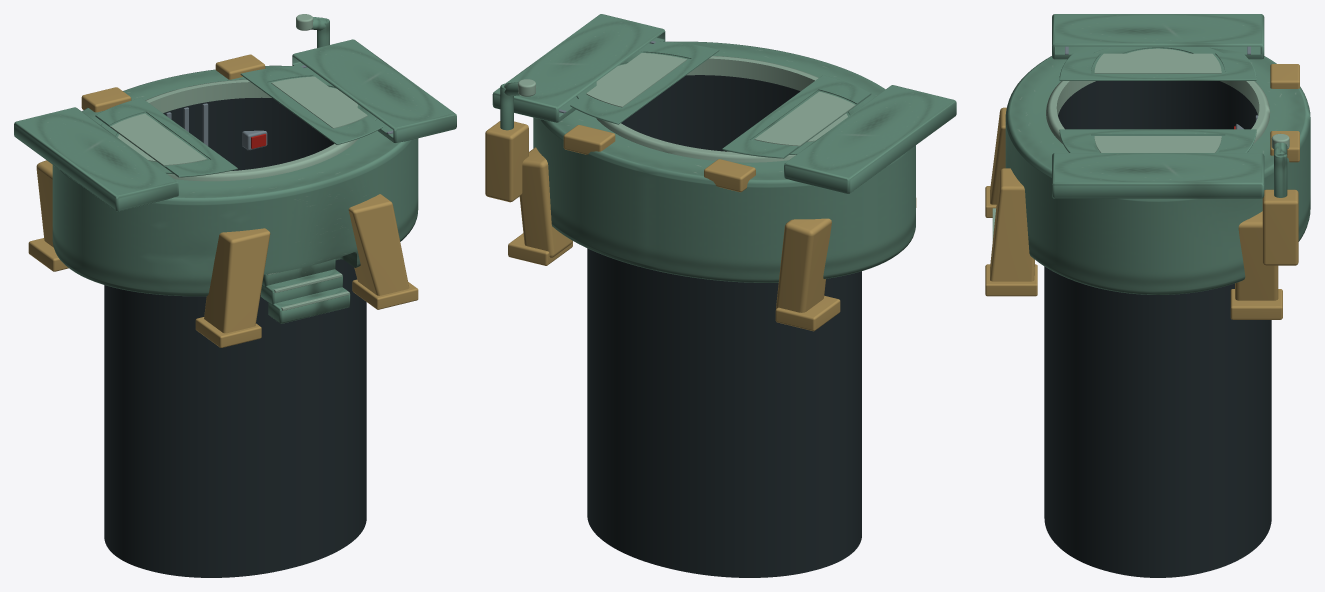
Rendered from descriptor-08.glb.
3 views of the same model, side by side, from view 1: azimuth 30°, elevation 25°; view 2: azimuth 150°, elevation 25°; view 3: azimuth 270°, elevation 25° (orthographic). The views are drawn at different scales.
Visible parts, largest first — view 1: RI10 shaft wall below ground, RI10 fixed oval body, RI10 enclosed side cover cassette, RI10 enclosed side cover cassette.001, RI10 front splayed brass buttress, RI10 front splayed brass buttress.001, RI10 green aperture coaming, RI10 left cover shell inner segment, RI10 right cover shell inner segment, RI10 recessed green cover field inner segment.001, RI10 recessed green cover field inner segment, RI10 front access step 0 (+8 smaller); view 2: RI10 shaft wall below ground, RI10 fixed oval body, RI10 enclosed side cover cassette, RI10 enclosed side cover cassette.001, RI10 rear brass load-bearing buttress, RI10 green aperture coaming, RI10 rear brass load-bearing buttress.001, RI10 left cover shell inner segment, RI10 right equipment mast foundation, RI10 right cover shell inner segment, RI10 recessed green cover field inner segment.001, RI10 recessed green cover field inner segment (+4 smaller); view 3: RI10 shaft wall below ground, RI10 fixed oval body, RI10 enclosed side cover cassette.001, RI10 enclosed side cover cassette, RI10 front splayed brass buttress.001, RI10 left cover shell inner segment, RI10 right equipment mast foundation, RI10 recessed green cover field inner segment, RI10 right cover shell inner segment, RI10 rear brass load-bearing buttress.001, RI10 recessed green cover field inner segment.001, RI10 green aperture coaming (+7 smaller).
Boxes of the visible parts, <box> form: RI10 shaft wall below ground: <box>104,97,366,577</box>; RI10 fixed oval body: <box>52,65,418,296</box>; RI10 enclosed side cover cassette: <box>14,107,178,211</box>; RI10 enclosed side cover cassette.001: <box>292,39,456,142</box>; RI10 front splayed brass buttress: <box>204,228,270,333</box>; RI10 front splayed brass buttress.001: <box>348,194,409,295</box>; RI10 green aperture coaming: <box>145,79,357,181</box>; RI10 left cover shell inner segment: <box>95,98,237,177</box>; RI10 right cover shell inner segment: <box>240,65,382,144</box>; RI10 recessed green cover field inner segment.001: <box>271,76,367,128</box>; RI10 recessed green cover field inner segment: <box>110,113,207,165</box>; RI10 front access step 0: <box>268,287,350,323</box>; RI10 shaft wall below ground: <box>587,75,861,577</box>; RI10 fixed oval body: <box>533,41,915,282</box>; RI10 enclosed side cover cassette: <box>784,85,956,193</box>; RI10 enclosed side cover cassette.001: <box>492,14,665,122</box>; RI10 rear brass load-bearing buttress: <box>776,218,831,312</box>; RI10 green aperture coaming: <box>596,56,818,162</box>; RI10 rear brass load-bearing buttress.001: <box>519,147,572,257</box>; RI10 left cover shell inner segment: <box>722,75,871,158</box>; RI10 right equipment mast foundation: <box>485,121,528,202</box>; RI10 right cover shell inner segment: <box>570,41,719,124</box>; RI10 recessed green cover field inner segment.001: <box>586,53,687,107</box>; RI10 recessed green cover field inner segment: <box>754,91,855,146</box>; RI10 shaft wall below ground: <box>1044,81,1271,577</box>; RI10 fixed oval body: <box>1005,56,1310,294</box>; RI10 enclosed side cover cassette.001: <box>1052,153,1264,198</box>; RI10 enclosed side cover cassette: <box>1052,14,1264,59</box>; RI10 front splayed brass buttress.001: <box>990,168,1034,281</box>; RI10 left cover shell inner segment: <box>1059,53,1256,80</box>; RI10 right equipment mast foundation: <box>1262,189,1298,265</box>; RI10 recessed green cover field inner segment: <box>1094,53,1221,73</box>; RI10 right cover shell inner segment: <box>1059,129,1256,152</box>; RI10 rear brass load-bearing buttress.001: <box>1235,211,1278,300</box>; RI10 recessed green cover field inner segment.001: <box>1094,136,1221,152</box>; RI10 green aperture coaming: <box>1046,81,1270,143</box>.
Bounding box in the file's own units: 2.7 × 3.31 × 2.17.
Materials: 7 (2 with a texture image).
